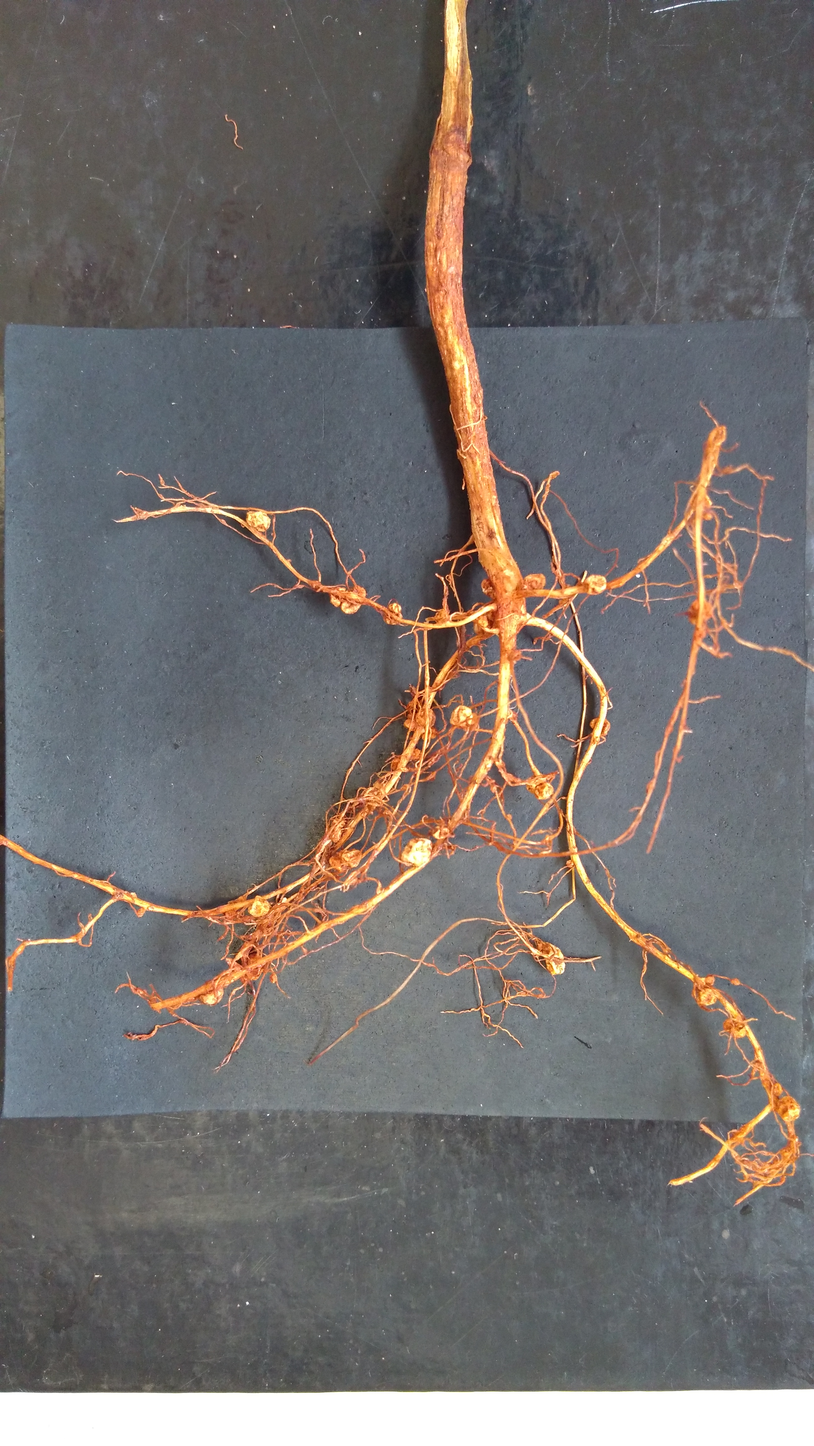nodule: (400, 836, 434, 868), (540, 939, 568, 977), (684, 595, 714, 628), (242, 508, 273, 535), (341, 584, 367, 616), (389, 747, 422, 770), (449, 704, 478, 730), (247, 893, 273, 921), (414, 705, 443, 729), (777, 1094, 801, 1123), (522, 570, 548, 596), (379, 600, 404, 627), (585, 573, 612, 597), (245, 951, 266, 981), (588, 715, 614, 737), (198, 985, 225, 1006), (722, 1017, 746, 1040), (524, 772, 548, 794), (326, 585, 347, 608), (341, 847, 364, 867), (329, 817, 346, 844), (696, 986, 718, 1006), (328, 852, 350, 871), (359, 786, 382, 804), (430, 823, 454, 839), (533, 782, 554, 799), (480, 578, 497, 598), (402, 718, 420, 732), (434, 609, 448, 625), (772, 1081, 784, 1096), (478, 616, 494, 627), (704, 973, 716, 985), (473, 621, 483, 635), (730, 975, 740, 987)
